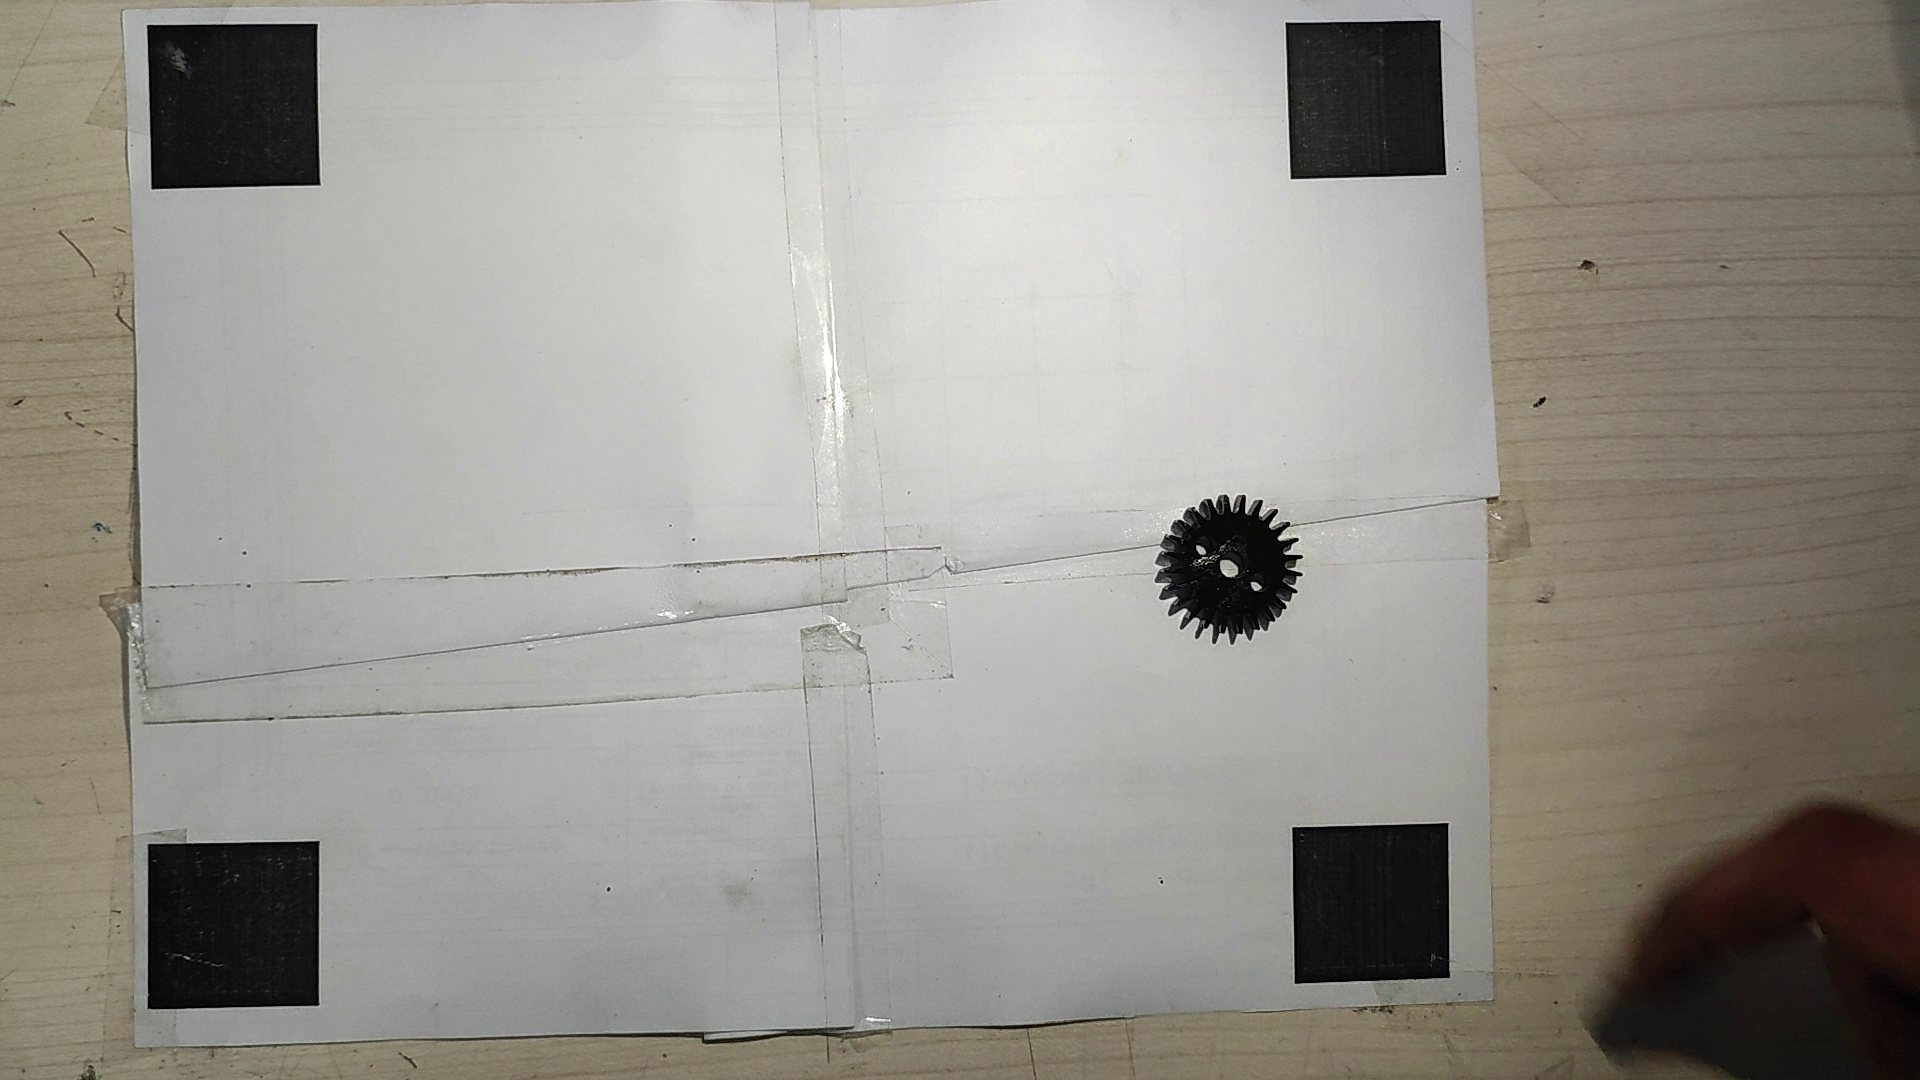Gear: (1151, 491, 1304, 646)
